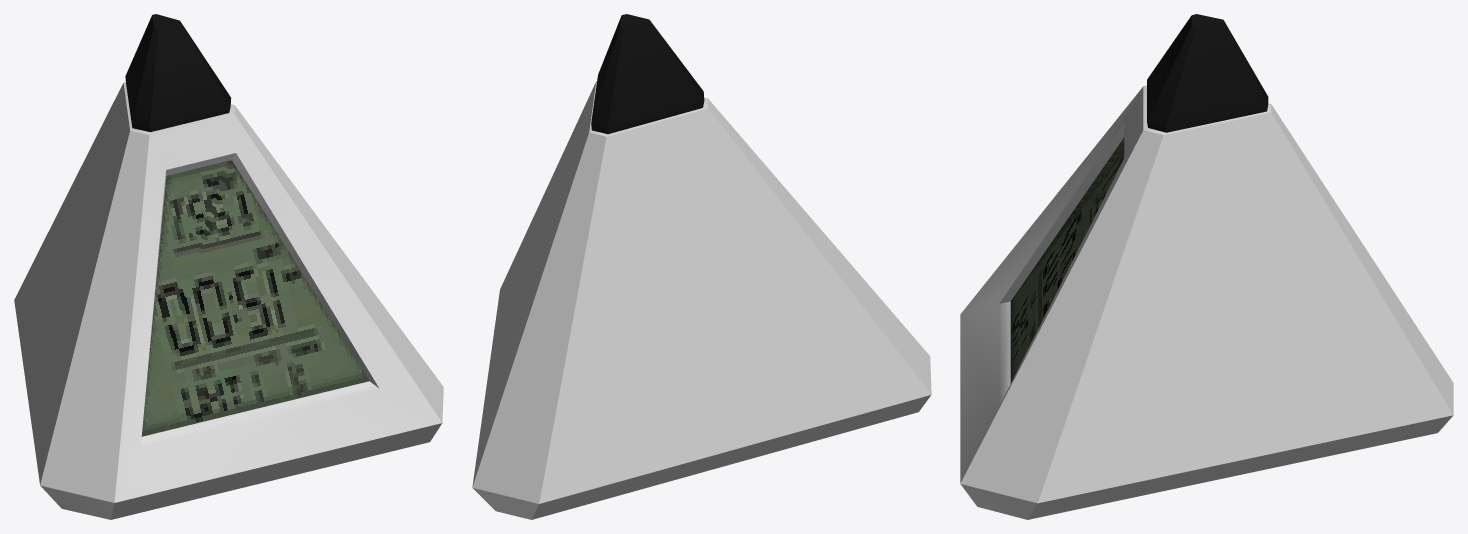
File: Clock.FBX
The picture shows the model from 3 angles, left to right: view 1: azimuth 30°, elevation 25°; view 2: azimuth 150°, elevation 25°; view 3: azimuth 270°, elevation 25°; orthographic projection. The views are drawn at different scales.
Visible parts, largest first — view 1: Clock; view 2: Clock; view 3: Clock.
Boxes of the visible parts, box(x1,y1,x2,y2) form: Clock: box(14, 14, 443, 519); Clock: box(472, 14, 931, 519); Clock: box(960, 14, 1453, 519).
Bounding box in the file's own units: 10.3 × 10.3 × 9.3.
